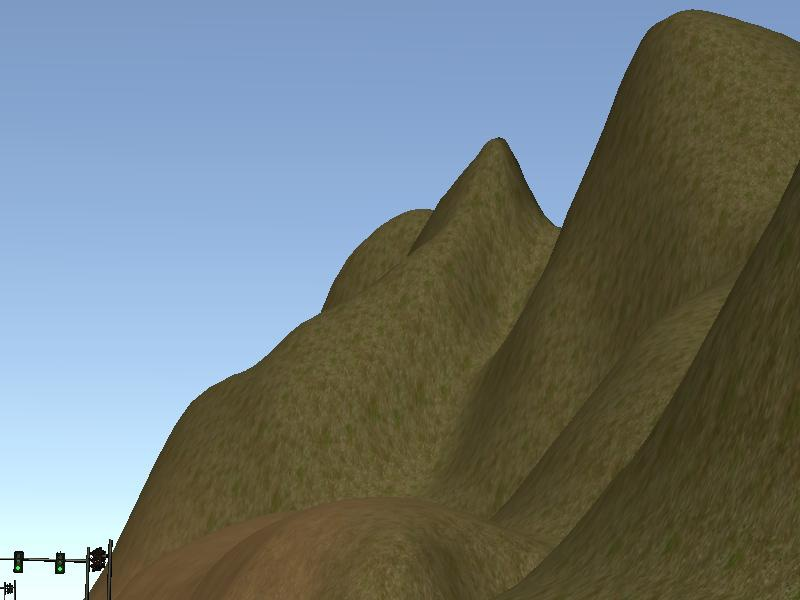green_light: (54, 552, 67, 575), (15, 551, 25, 575)
